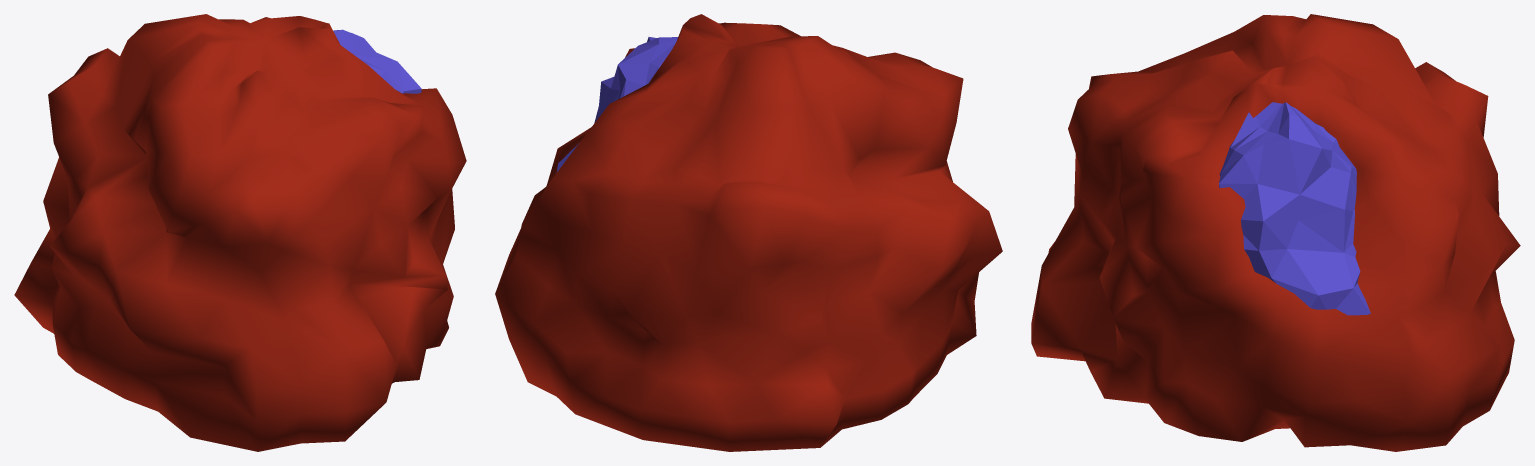
File: crystal_rock.obj
3 views of the same model, side by side, from view 1: azimuth 30°, elevation 25°; view 2: azimuth 150°, elevation 25°; view 3: azimuth 270°, elevation 25° (orthographic). The views are drawn at different scales.
Visible parts, largest first — view 1: Sphere, Sphere.001; view 2: Sphere, Sphere.001; view 3: Sphere, Sphere.001.
Boxes of the visible parts, x1,y1,x2,y2 form: Sphere: (14, 14, 466, 451); Sphere.001: (333, 29, 421, 93); Sphere: (495, 14, 1002, 451); Sphere.001: (556, 37, 677, 172); Sphere: (1031, 14, 1520, 451); Sphere.001: (1219, 102, 1370, 315).
Size of the model in its own units: 2.01 by 1.65 by 2.1.
